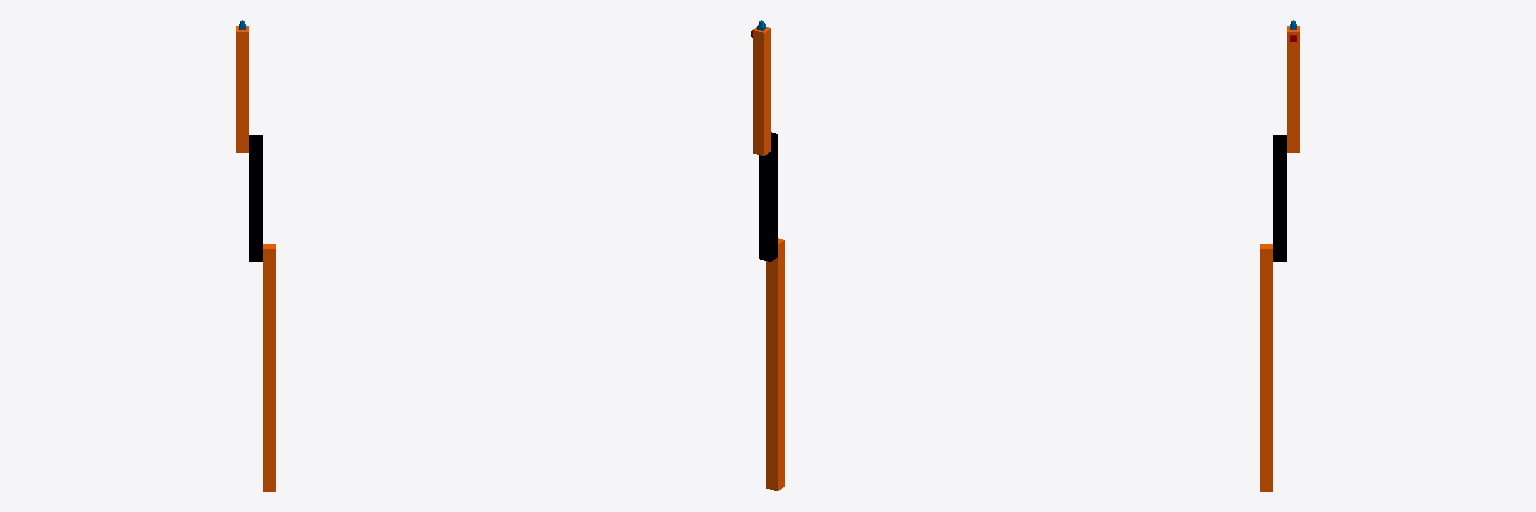
robot.urdf — rrbot:
<?xml version="1.0" ?>
<!-- =================================================================================== -->
<!-- |    This document was autogenerated by xacro from rrbot.xacro                    | -->
<!-- |    EDITING THIS FILE BY HAND IS NOT RECOMMENDED                                 | -->
<!-- =================================================================================== -->
<!-- Revolute-Revolute Manipulator -->
<robot name="rrbot" xmlns:xacro="http://www.ros.org/wiki/xacro">
  <!-- Space btw top of beam and the each joint -->
  <!-- ros_control plugin -->
  <gazebo>
    <plugin filename="libgazebo_ros_control.so" name="gazebo_ros_control">
      <robotNamespace>/rrbot</robotNamespace>
      <robotSimType>gazebo_ros_control/DefaultRobotHWSim</robotSimType>
    </plugin>
  </gazebo>
  <!-- Link1 -->
  <gazebo reference="link1">
    <material>Gazebo/Orange</material>
  </gazebo>
  <!-- Link2 -->
  <gazebo reference="link2">
    <mu1>0.2</mu1>
    <mu2>0.2</mu2>
    <material>Gazebo/Black</material>
  </gazebo>
  <!-- Link3 -->
  <gazebo reference="link3">
    <mu1>0.2</mu1>
    <mu2>0.2</mu2>
    <material>Gazebo/Orange</material>
  </gazebo>
  <!-- camera_link -->
  <gazebo reference="camera_link">
    <mu1>0.2</mu1>
    <mu2>0.2</mu2>
    <material>Gazebo/Red</material>
  </gazebo>
  <!-- hokuyo -->
  <gazebo reference="hokuyo_link">
    <sensor name="head_hokuyo_sensor" type="gpu_ray">
      <pose>0 0 0 0 0 0</pose>
      <visualize>false</visualize>
      <update_rate>40</update_rate>
      <ray>
        <scan>
          <horizontal>
            <samples>720</samples>
            <resolution>1</resolution>
            <min_angle>-1.570796</min_angle>
            <max_angle>1.570796</max_angle>
          </horizontal>
        </scan>
        <range>
          <min>0.10</min>
          <max>30.0</max>
          <resolution>0.01</resolution>
        </range>
        <noise>
          <type>gaussian</type>
          <!-- Noise parameters based on published spec for Hokuyo laser
               achieving "+-30mm" accuracy at range < 10m.  A mean of 0.0m and
               stddev of 0.01m will put 99.7% of samples within 0.03m of the true
               reading. -->
          <mean>0.0</mean>
          <stddev>0.01</stddev>
        </noise>
      </ray>
      <plugin filename="libgazebo_ros_gpu_laser.so" name="gazebo_ros_head_hokuyo_controller">
        <topicName>/rrbot/laser/scan</topicName>
        <frameName>hokuyo_link</frameName>
      </plugin>
    </sensor>
  </gazebo>
  <!-- camera -->
  <gazebo reference="camera_link">
    <sensor name="camera1" type="camera">
      <update_rate>30.0</update_rate>
      <camera name="head">
        <horizontal_fov>1.3962634</horizontal_fov>
        <image>
          <width>800</width>
          <height>800</height>
          <format>R8G8B8</format>
        </image>
        <clip>
          <near>0.02</near>
          <far>300</far>
        </clip>
        <noise>
          <type>gaussian</type>
          <!-- Noise is sampled independently per pixel on each frame.
               That pixel's noise value is added to each of its color
               channels, which at that point lie in the range [0,1]. -->
          <mean>0.0</mean>
          <stddev>0.007</stddev>
        </noise>
      </camera>
      <plugin filename="libgazebo_ros_camera.so" name="camera_controller">
        <alwaysOn>true</alwaysOn>
        <updateRate>0.0</updateRate>
        <cameraName>rrbot/camera1</cameraName>
        <imageTopicName>image_raw</imageTopicName>
        <cameraInfoTopicName>camera_info</cameraInfoTopicName>
        <frameName>camera_link_optical</frameName>
        <!-- setting hackBaseline to anything but 0.0 will cause a misalignment
            between the gazebo sensor image and the frame it is supposed to
            be attached to -->
        <hackBaseline>0.0</hackBaseline>
        <distortionK1>0.0</distortionK1>
        <distortionK2>0.0</distortionK2>
        <distortionK3>0.0</distortionK3>
        <distortionT1>0.0</distortionT1>
        <distortionT2>0.0</distortionT2>
        <CxPrime>0</CxPrime>
        <Cx>0.0</Cx>
        <Cy>0.0</Cy>
        <focalLength>0.0</focalLength>
      </plugin>
    </sensor>
  </gazebo>
  <material name="black">
    <color rgba="0.0 0.0 0.0 1.0"/>
  </material>
  <material name="blue">
    <color rgba="0.0 0.0 0.8 1.0"/>
  </material>
  <material name="green">
    <color rgba="0.0 0.8 0.0 1.0"/>
  </material>
  <material name="grey">
    <color rgba="0.2 0.2 0.2 1.0"/>
  </material>
  <material name="orange">
    <color rgba="1.0 0.423529411765 0.0392156862745 1.0"/>
  </material>
  <material name="brown">
    <color rgba="0.870588235294 0.811764705882 0.764705882353 1.0"/>
  </material>
  <material name="red">
    <color rgba="0.8 0.0 0.0 1.0"/>
  </material>
  <material name="white">
    <color rgba="1.0 1.0 1.0 1.0"/>
  </material>
  <!-- Used for fixing robot to Gazebo 'base_link' -->
  <link name="world">
    <inertial>
      <origin rpy="0 0 0" xyz="0 0 0"/>
      <mass value="0"/>
      <inertia ixx="0.0" ixy="0.0" ixz="0.0" iyy="0.0" iyz="0.0" izz="0.0"/>
    </inertial>
  </link> <!-- if you put mass/inertia to 0 for the base_link in pybullet then the robot will not be affected by gravity (i.e. it will float). Just removing the base_link fixes the problem. -->
  <joint name="fixed" type="fixed">
    <parent link="world"/>
    <child link="link1"/>
  </joint>
  <!-- Base Link -->
  <link name="link1">
    <collision>
      <origin rpy="0 0 0" xyz="0 0 1.0"/>
      <geometry>
        <box size="0.1 0.1 2"/>
      </geometry>
    </collision>
    <visual>
      <origin rpy="0 0 0" xyz="0 0 1.0"/>
      <geometry>
        <box size="0.1 0.1 2"/>
      </geometry>
      <material name="orange"/>
    </visual>
    <inertial>
      <origin rpy="0 0 0" xyz="0 0 1.0"/>
      <mass value="1"/>
      <inertia ixx="0.334166666667" ixy="0.0" ixz="0.0" iyy="0.334166666667" iyz="0.0" izz="0.00166666666667"/>
    </inertial>
  </link>
  <joint name="joint1" type="continuous">
    <parent link="link1"/>
    <child link="link2"/>
    <origin rpy="0 0 0" xyz="0 0.1 1.95"/>
    <axis xyz="0 1 0"/>
    <dynamics damping="0.7"/>
  </joint>
  <!-- Middle Link -->
  <link name="link2">
    <collision>
      <origin rpy="0 0 0" xyz="0 0 0.45"/>
      <geometry>
        <box size="0.1 0.1 1"/>
      </geometry>
    </collision>
    <visual>
      <origin rpy="0 0 0" xyz="0 0 0.45"/>
      <geometry>
        <box size="0.1 0.1 1"/>
      </geometry>
      <material name="black"/>
    </visual>
    <inertial>
      <origin rpy="0 0 0" xyz="0 0 0.45"/>
      <mass value="1"/>
      <inertia ixx="0.0841666666667" ixy="0.0" ixz="0.0" iyy="0.0841666666667" iyz="0.0" izz="0.00166666666667"/>
    </inertial>
  </link>
  <joint name="joint2" type="continuous">
    <parent link="link2"/>
    <child link="link3"/>
    <origin rpy="0 0 0" xyz="0 0.1 0.9"/>
    <axis xyz="0 1 0"/>
    <dynamics damping="0.7"/>
  </joint>
  <!-- Top Link -->
  <link name="link3">
    <collision>
      <origin rpy="0 0 0" xyz="0 0 0.45"/>
      <geometry>
        <box size="0.1 0.1 1"/>
      </geometry>
    </collision>
    <visual>
      <origin rpy="0 0 0" xyz="0 0 0.45"/>
      <geometry>
        <box size="0.1 0.1 1"/>
      </geometry>
      <material name="orange"/>
    </visual>
    <inertial>
      <origin rpy="0 0 0" xyz="0 0 0.45"/>
      <mass value="1"/>
      <inertia ixx="0.0841666666667" ixy="0.0" ixz="0.0" iyy="0.0841666666667" iyz="0.0" izz="0.00166666666667"/>
    </inertial>
  </link>
  <joint name="hokuyo_joint" type="fixed">
    <axis xyz="0 1 0"/>
    <origin rpy="0 0 0" xyz="0 0 0.975"/>
    <parent link="link3"/>
    <child link="hokuyo_link"/>
  </joint>
  <!-- Hokuyo Laser -->
  <link name="hokuyo_link">
    <collision>
      <origin rpy="0 0 0" xyz="0 0 0"/>
      <geometry>
        <box size="0.1 0.1 0.1"/>
      </geometry>
    </collision>
    <visual>
      <origin rpy="0 0 0" xyz="0 0 0"/>
      <geometry>
        <mesh filename="meshes/hokuyo.obj"/>
      </geometry>
    </visual>
    <inertial>
      <mass value="1e-5"/>
      <origin rpy="0 0 0" xyz="0 0 0"/>
      <inertia ixx="1e-6" ixy="0" ixz="0" iyy="1e-6" iyz="0" izz="1e-6"/>
    </inertial>
  </link>
  <joint name="camera_joint" type="fixed">
    <axis xyz="0 1 0"/>
    <origin rpy="0 0 0" xyz="0.05 0 0.9"/>
    <parent link="link3"/>
    <child link="camera_link"/>
  </joint>
  <!-- Camera -->
  <link name="camera_link">
    <collision>
      <origin rpy="0 0 0" xyz="0 0 0"/>
      <geometry>
        <box size="0.05 0.05 0.05"/>
      </geometry>
    </collision>
    <visual>
      <origin rpy="0 0 0" xyz="0 0 0"/>
      <geometry>
        <box size="0.05 0.05 0.05"/>
      </geometry>
      <material name="red"/>
    </visual>
    <inertial>
      <mass value="1e-5"/>
      <origin rpy="0 0 0" xyz="0 0 0"/>
      <inertia ixx="1e-6" ixy="0" ixz="0" iyy="1e-6" iyz="0" izz="1e-6"/>
    </inertial>
  </link>
  <!-- generate an optical frame http://www.ros.org/reps/rep-0103.html#suffix-frames
      so that ros and opencv can operate on the camera frame correctly -->
  <joint name="camera_optical_joint" type="fixed">
    <!-- these values have to be these values otherwise the gazebo camera image
        won't be aligned properly with the frame it is supposedly originating from -->
    <origin rpy="-1.57079632679 0 -1.57079632679" xyz="0 0 0"/>
    <parent link="camera_link"/>
    <child link="camera_link_optical"/>
  </joint>
  <link name="camera_link_optical">
    <inertial>
      <origin rpy="0 0 0" xyz="0 0 0"/>
      <mass value="0"/>
      <inertia ixx="0.0" ixy="0.0" ixz="0.0" iyy="0.0" iyz="0.0" izz="0.0"/>
    </inertial>
  </link> <!-- if you put mass/inertia to 0 for the base_link in pybullet then the robot will not be affected by gravity (i.e. it will float). Just removing the base_link fixes the problem. -->
  <transmission name="tran1">
    <type>transmission_interface/SimpleTransmission</type>
    <joint name="joint1">
      <hardwareInterface>hardware_interface/EffortJointInterface</hardwareInterface>
    </joint>
    <actuator name="motor1">
      <hardwareInterface>hardware_interface/EffortJointInterface</hardwareInterface>
      <mechanicalReduction>1</mechanicalReduction>
    </actuator>
  </transmission>
  <transmission name="tran2">
    <type>transmission_interface/SimpleTransmission</type>
    <joint name="joint2">
      <hardwareInterface>hardware_interface/EffortJointInterface</hardwareInterface>
    </joint>
    <actuator name="motor2">
      <hardwareInterface>hardware_interface/EffortJointInterface</hardwareInterface>
      <mechanicalReduction>1</mechanicalReduction>
    </actuator>
  </transmission>
</robot>

--- What the picture shows (computed from the rendered views, not written in the file) ---
The picture shows the robot from 3 angles, left to right: view 1: azimuth 90°, elevation 25°; view 2: azimuth 150°, elevation 25°; view 3: azimuth 270°, elevation 25°; orthographic projection.
Robot: rrbot — 7 links, 6 joints (2 continuous, 4 fixed); root link world; default pose: all joints at 0.
Links seen in each view (by area): view 1: link1, link2, link3; view 2: link1, link3, link2; view 3: link1, link2, link3.
Boxes of the visible links, box(x1,y1,x2,y2) form: link1: box(263, 244, 275, 491); link2: box(249, 135, 262, 261); link3: box(236, 26, 248, 152); link1: box(766, 238, 784, 490); link3: box(753, 27, 770, 155); link2: box(759, 132, 777, 261); link1: box(1260, 244, 1272, 491); link2: box(1273, 135, 1286, 261); link3: box(1287, 26, 1299, 152).
Bounding box of the posed robot: 0.125 × 0.3 × 3.86 m (x, y, z).
1 mesh visuals loaded from 1 distinct referenced files (1 OBJ).
